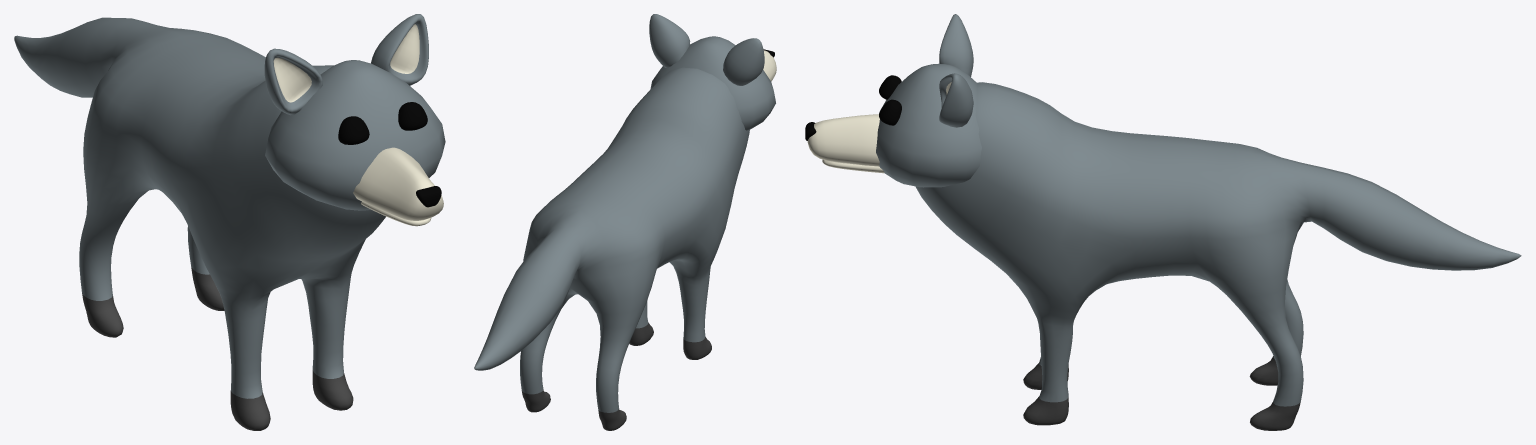
File: Wolf.glb
3 renders of one model, left to right at view 1: azimuth 30°, elevation 25°; view 2: azimuth 150°, elevation 25°; view 3: azimuth 270°, elevation 25°, orthographic. The views are drawn at different scales.
Visible parts, largest first — view 1: Wolf, Eyes_Wolf; view 2: Wolf; view 3: Wolf, Eyes_Wolf.
Boxes of the visible parts, box(x1,y1,x2,y2) form: Wolf: box(14, 14, 445, 430); Eyes_Wolf: box(338, 102, 427, 144); Wolf: box(474, 14, 776, 430); Wolf: box(805, 14, 1521, 430); Eyes_Wolf: box(879, 75, 901, 125).
Size of the model in its own units: 1.03 by 2.45 by 4.4.
